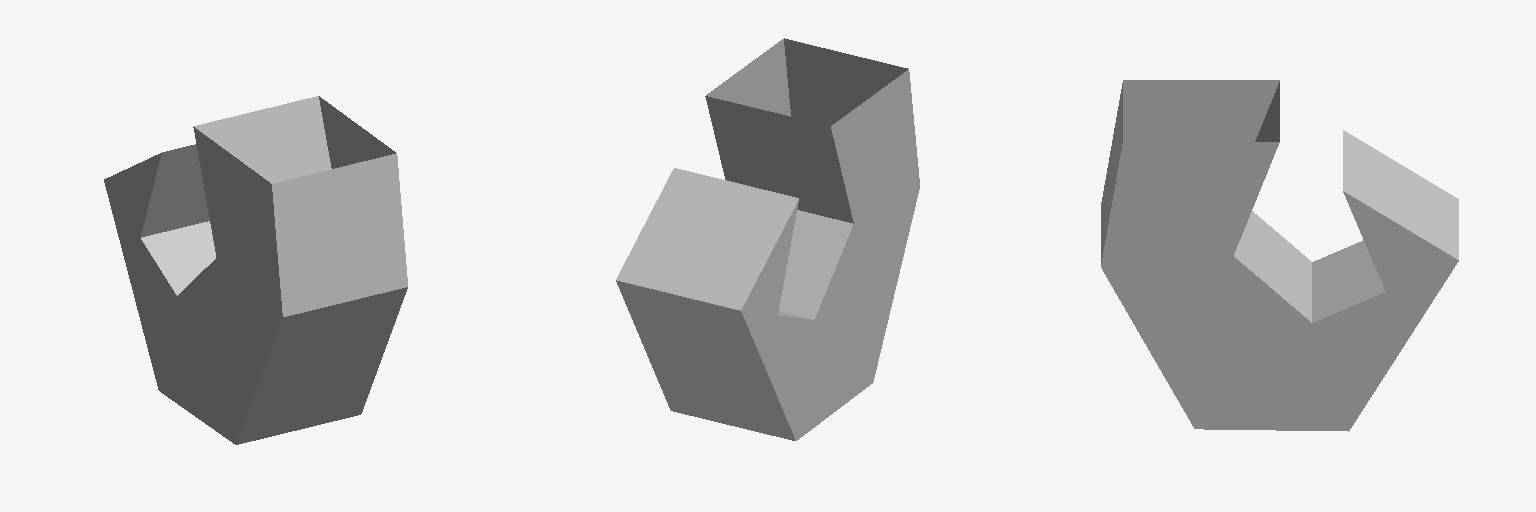
The model's file is hcmwlanternroofhook.obj.
3 views of the same model, side by side, from view 1: azimuth 30°, elevation 25°; view 2: azimuth 150°, elevation 25°; view 3: azimuth 270°, elevation 25° (orthographic).
Visible parts, largest first — view 1: laternHookRoof; view 2: laternHookRoof; view 3: laternHookRoof.
Boxes of the visible parts, x1=… form: laternHookRoof: x1=104, y1=96, x2=407, y2=444; laternHookRoof: x1=616, y1=38, x2=919, y2=440; laternHookRoof: x1=1101, y1=80, x2=1458, y2=431.
Bounding box in the file's own units: 0.104 × 0.2296 × 0.2573.